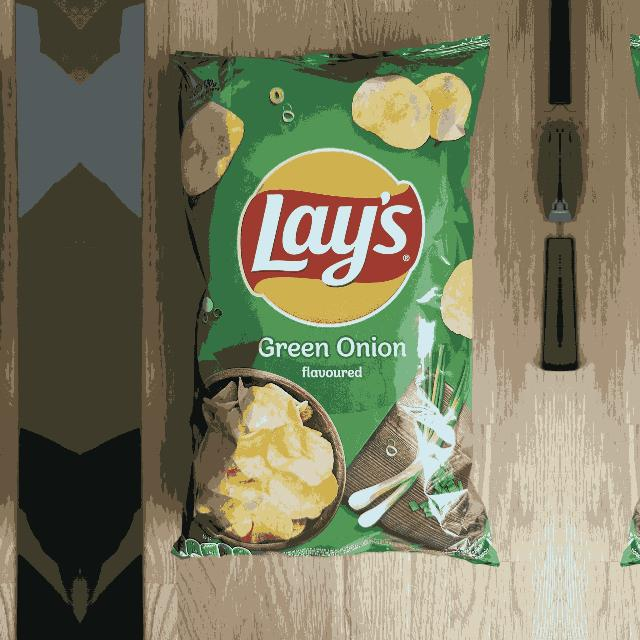lays: (238, 149, 427, 329)
